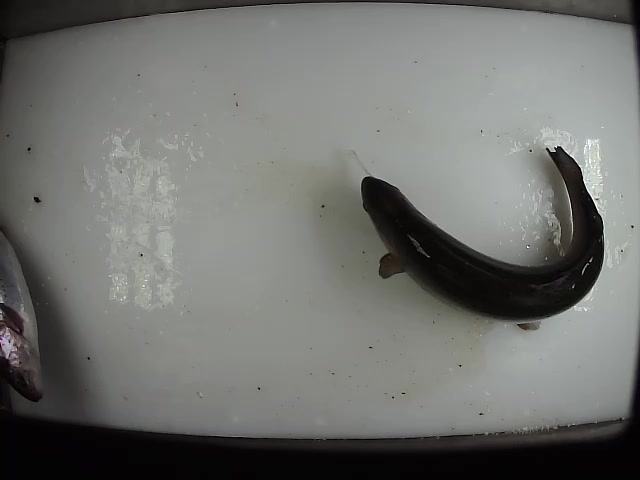fish: (358, 142, 607, 333), (1, 227, 45, 404)
